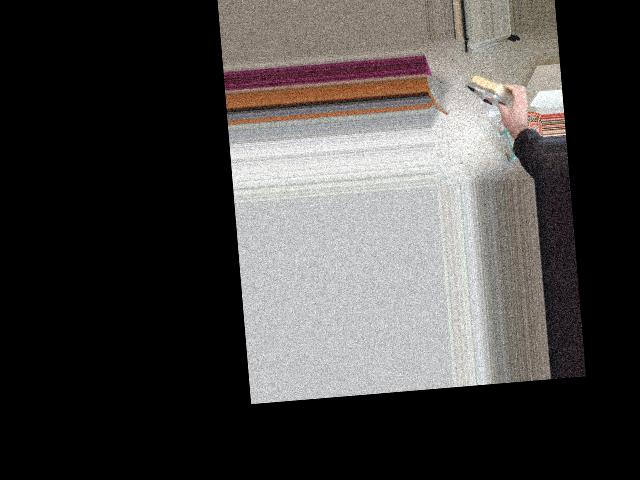cheese: (461, 60, 537, 122)
